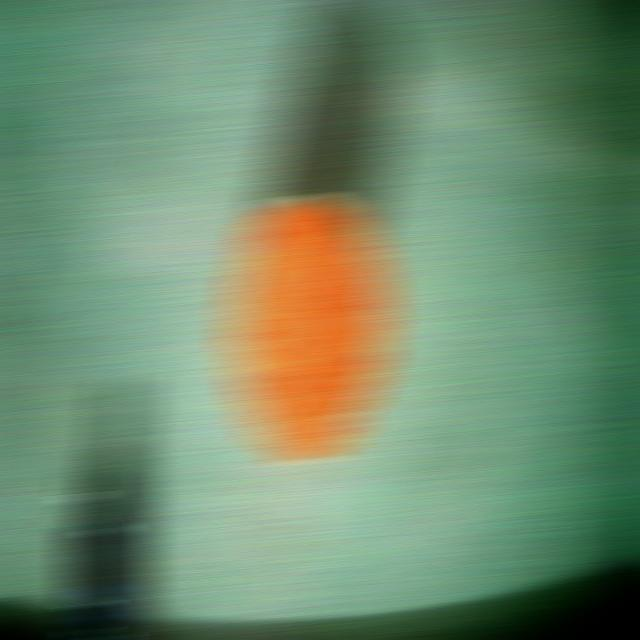yellow: (227, 195, 390, 461)
